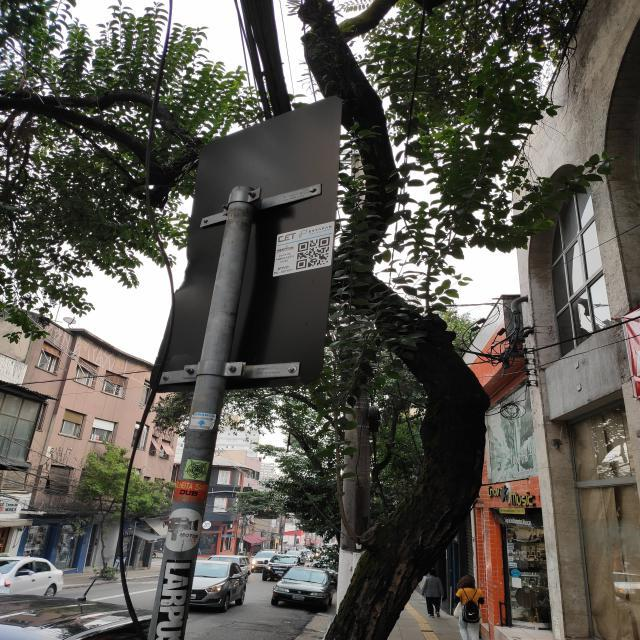qrcode: (297, 238, 330, 271)
